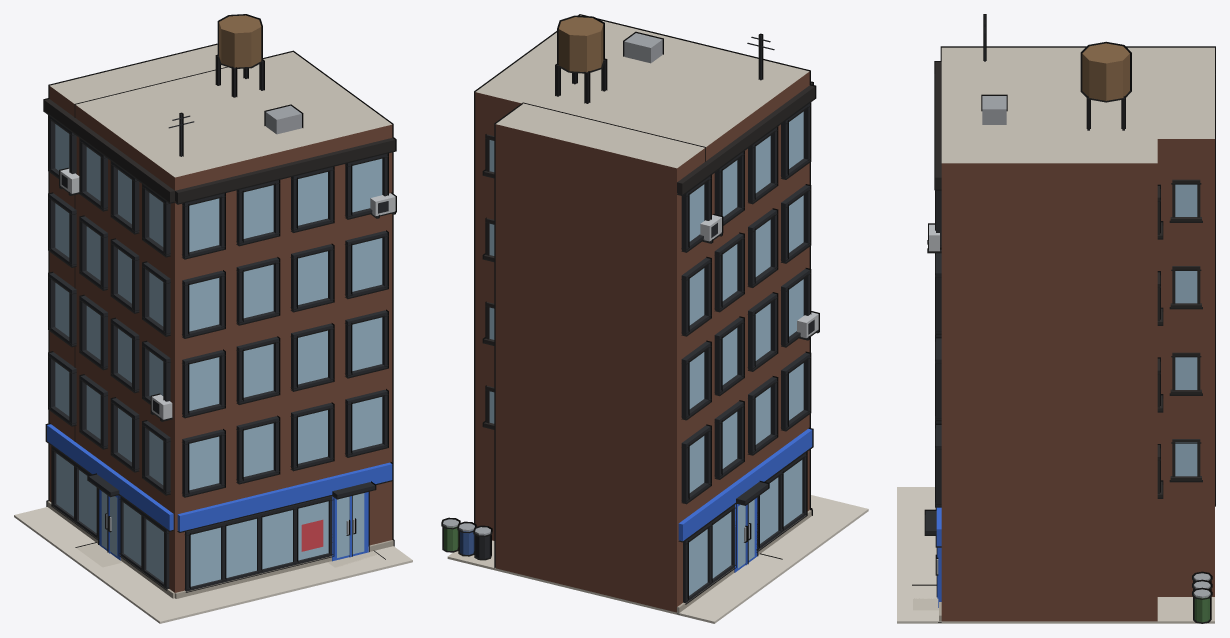
Rendered from Blok_kose_5k_4.fbx.
3 views of the same model, side by side, from view 1: azimuth 30°, elevation 25°; view 2: azimuth 150°, elevation 25°; view 3: azimuth 270°, elevation 25° (orthographic). The views are drawn at different scales.
Parts seen in each view (by area): view 1: Blok_kose_5k_4; view 2: Blok_kose_5k_4; view 3: Blok_kose_5k_4.
Part boxes in pixels (x1,y1,x2,y2): Blok_kose_5k_4: (14, 14, 412, 623); Blok_kose_5k_4: (441, 14, 868, 623); Blok_kose_5k_4: (897, 14, 1215, 623).
Size of the model in its own units: 10.43 by 18.48 by 10.03.
